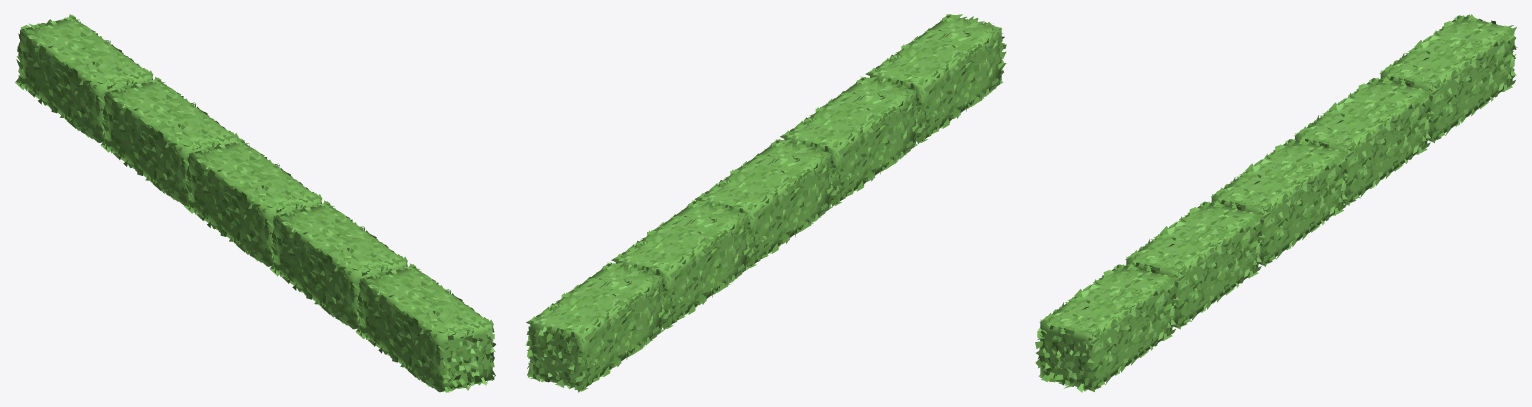
Rendered from BUSH19.fbx.
3 renders of one model, left to right at view 1: azimuth 30°, elevation 25°; view 2: azimuth 150°, elevation 25°; view 3: azimuth 330°, elevation 25°, orthographic.
Visible parts, largest first — view 1: Cube.119; view 2: Cube.119; view 3: Cube.119.
Part boxes in pixels (box(x1,y1,x2,y2)): Cube.119: box(15, 14, 495, 392); Cube.119: box(525, 14, 1006, 392); Cube.119: box(1035, 14, 1517, 392).
Bounding box in the file's own units: 1300 × 1295 × 16379.
